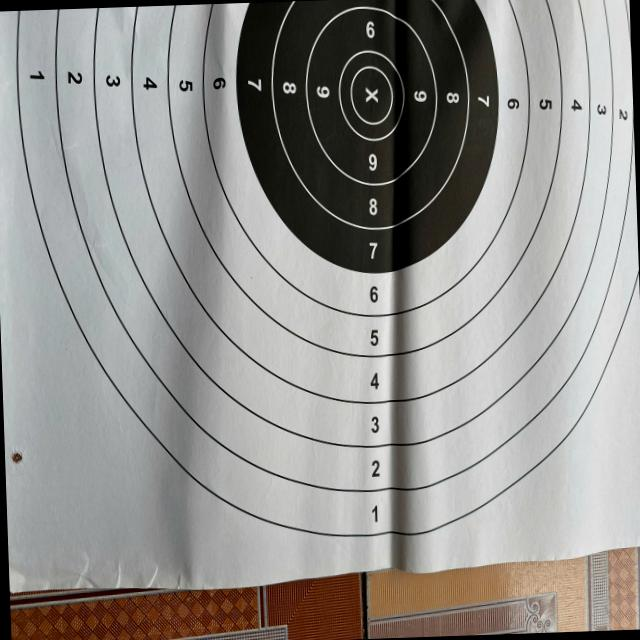bullet: (12, 451, 20, 462)
target: (0, 0, 640, 596)
